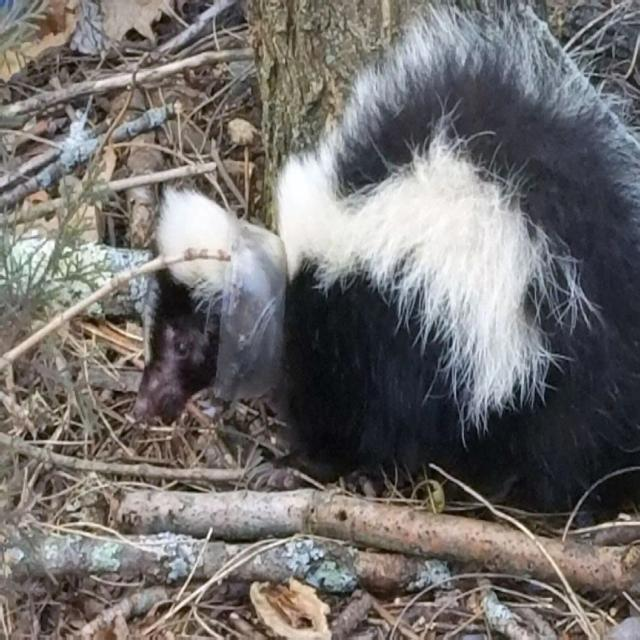Skunk: (132, 0, 640, 524)
